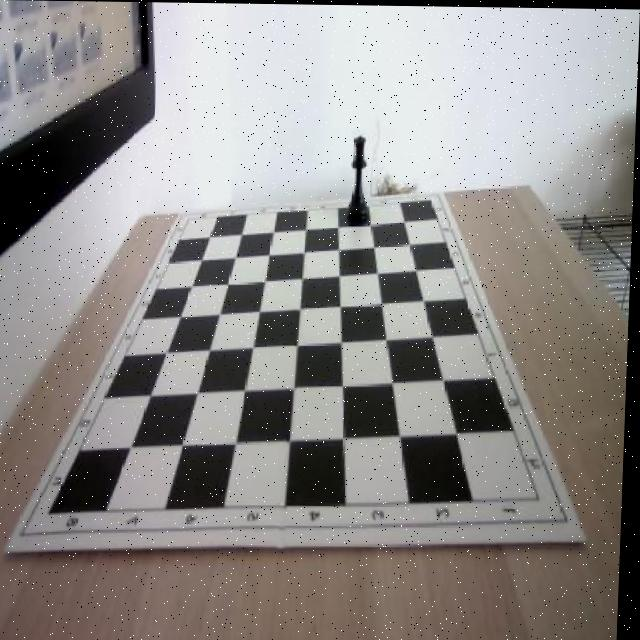black-pawn: (347, 134, 371, 223)
